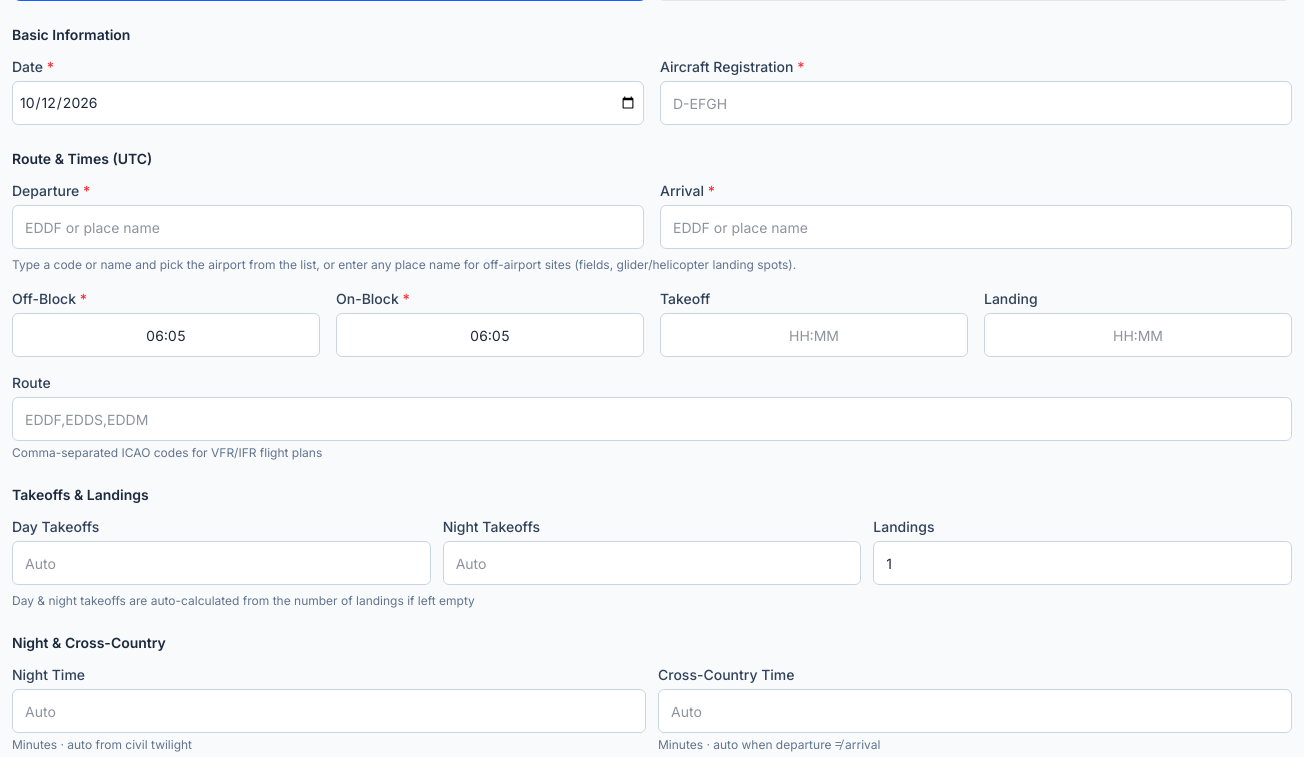
FlightForm Instrument Tracking › wraps block time past midnight when filling
Step 1. Replace the text in the field labelled "Off-Block *" with "23:30" → (166, 335), box [12,313,320,357]
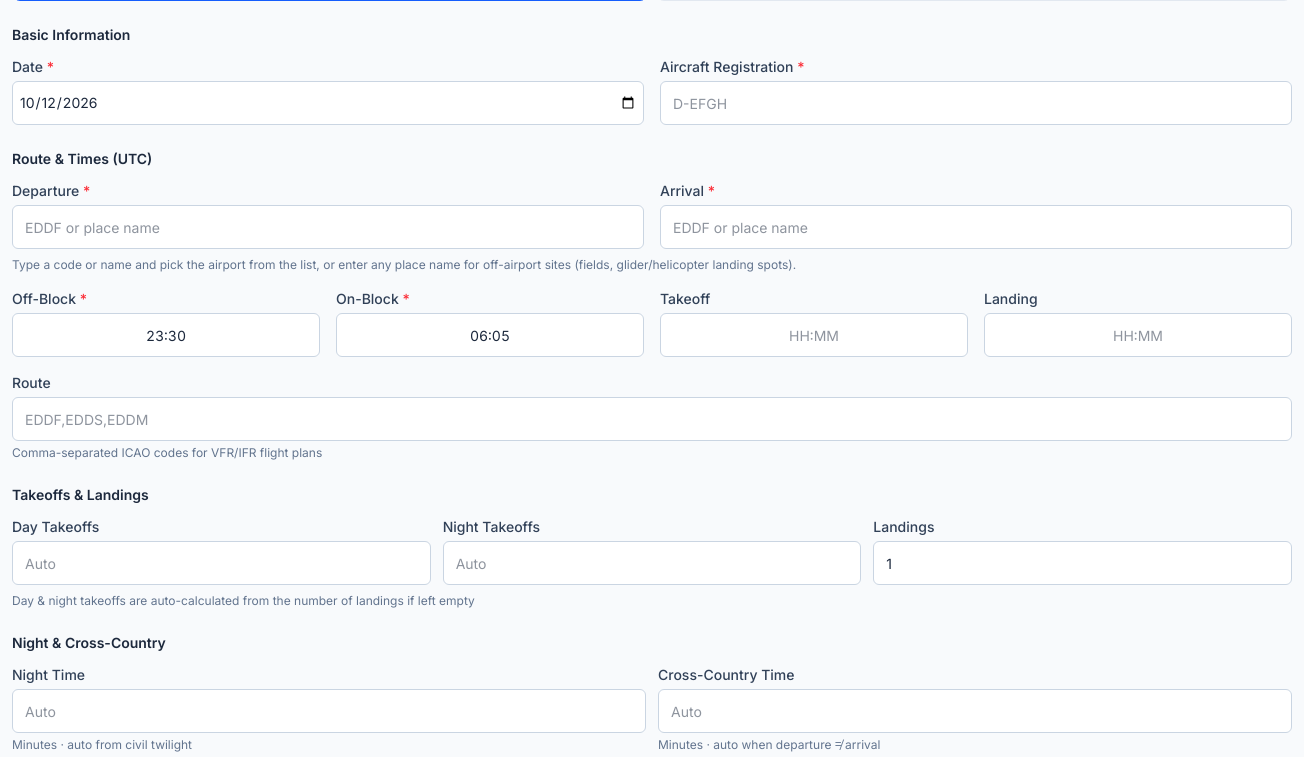
Step 2. Replace the text in the field labelled "On-Block *" with "01:15" → (490, 335), box [336,313,644,357]
(page scrolled)
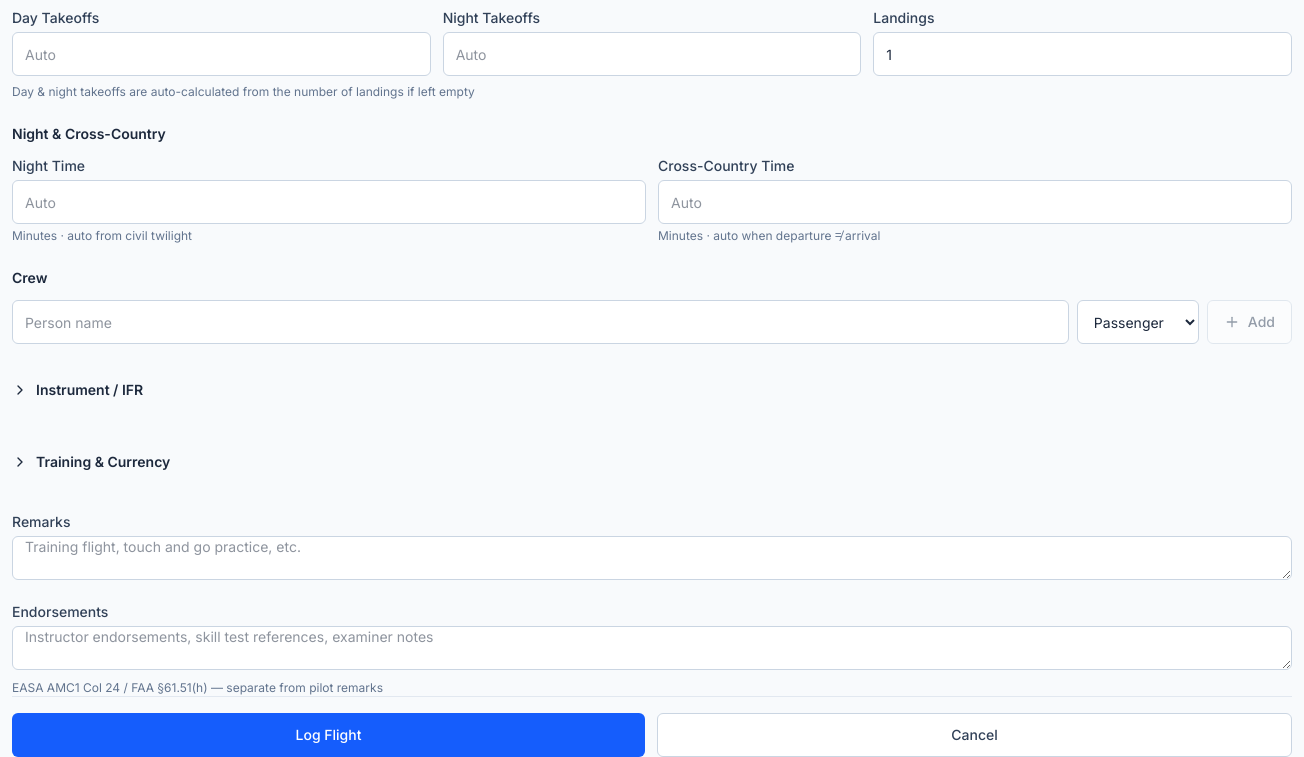
Step 3. Click the button "Instrument / IFR" → (90, 390), box [12,368,1292,412]
(page scrolled)
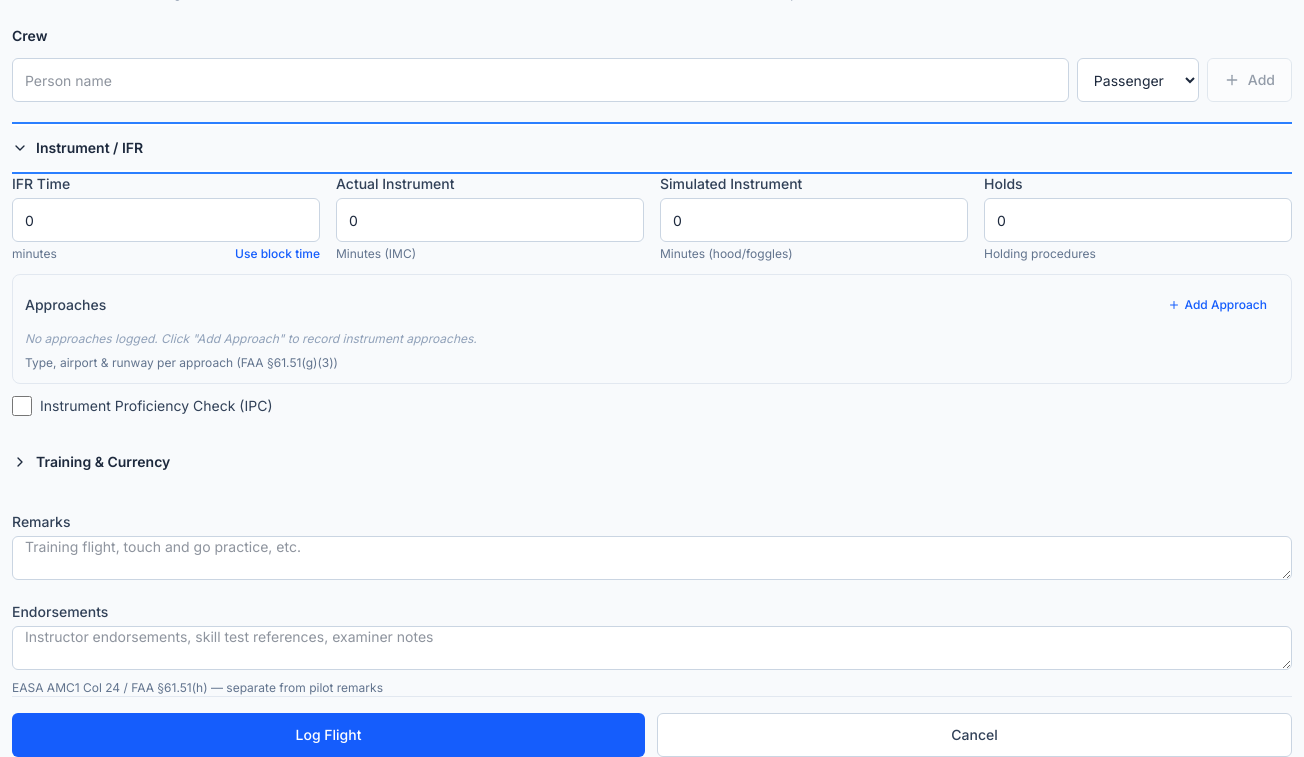
Step 4. Click the button "Use block time" → (278, 254), box [235,232,320,276]
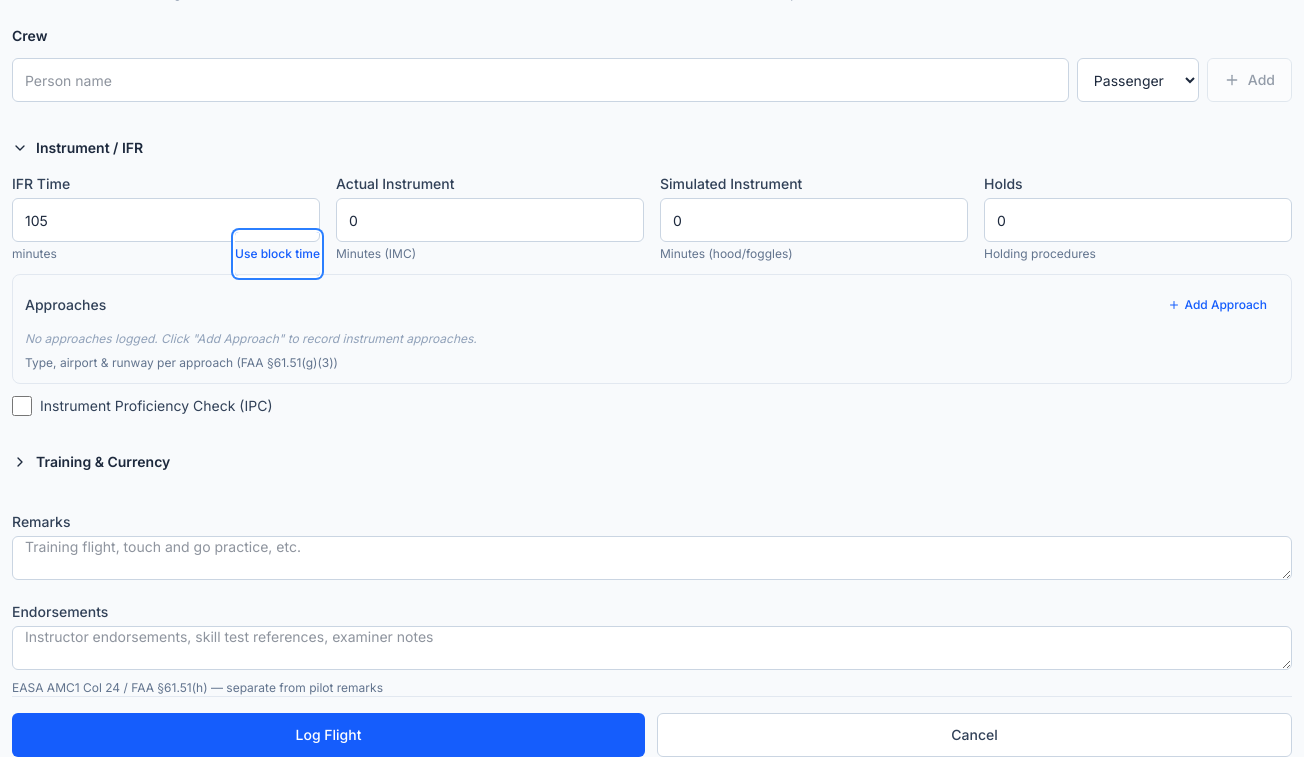
Result: the number field labelled "IFR Time" holds "105" at [12,198,320,242]
